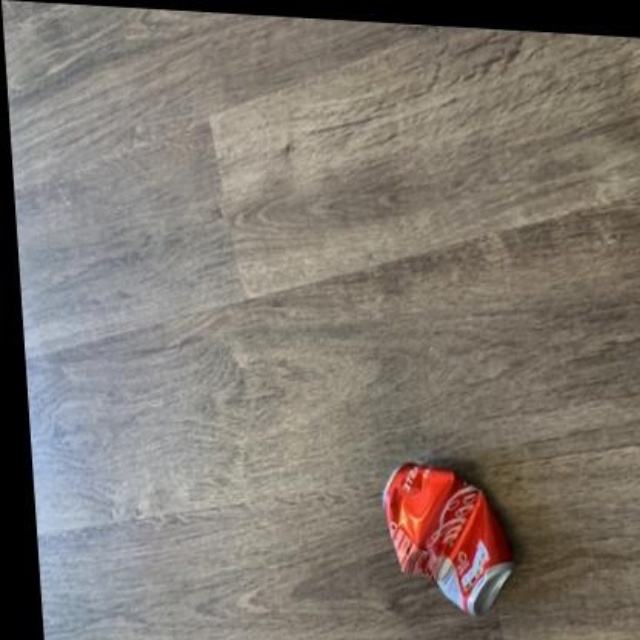trash: (383, 463, 512, 614)
